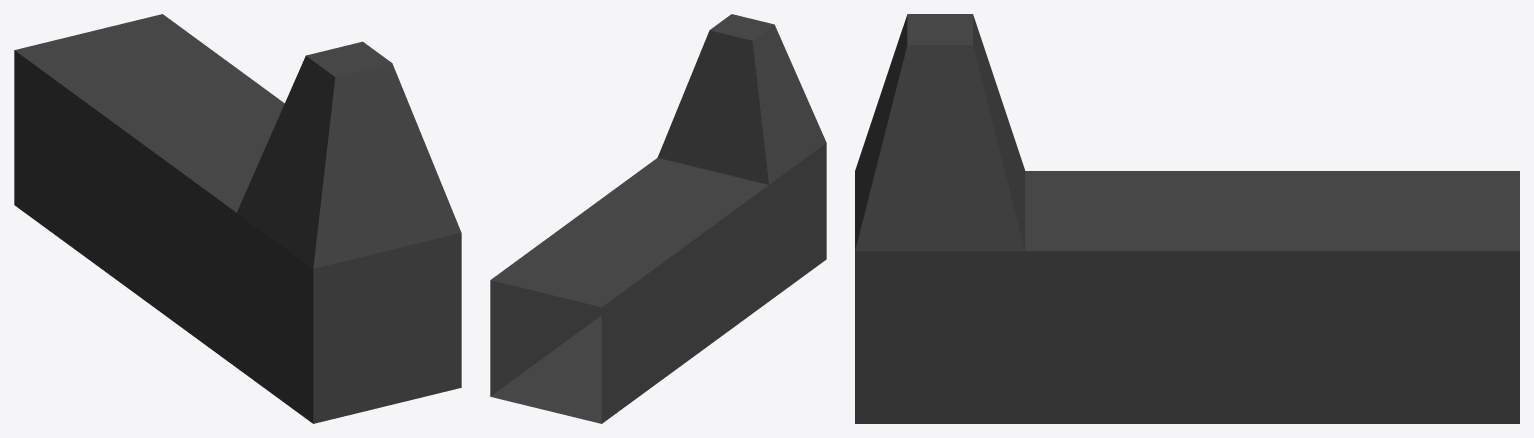
Rendered from SFHW_Chemney_Hook.fbx.
3 views of the same model, side by side, from view 1: azimuth 30°, elevation 25°; view 2: azimuth 150°, elevation 25°; view 3: azimuth 270°, elevation 25° (orthographic). The views are drawn at different scales.
Visible parts, largest first — view 1: SFHW_Chemney_Hook; view 2: SFHW_Chemney_Hook; view 3: SFHW_Chemney_Hook.
Part boxes in pixels (<box>): SFHW_Chemney_Hook: <box>14,14,461,423</box>; SFHW_Chemney_Hook: <box>490,14,826,423</box>; SFHW_Chemney_Hook: <box>855,14,1519,423</box>.
Size of the model in its own units: 2.47 by 5.07 by 8.62.
